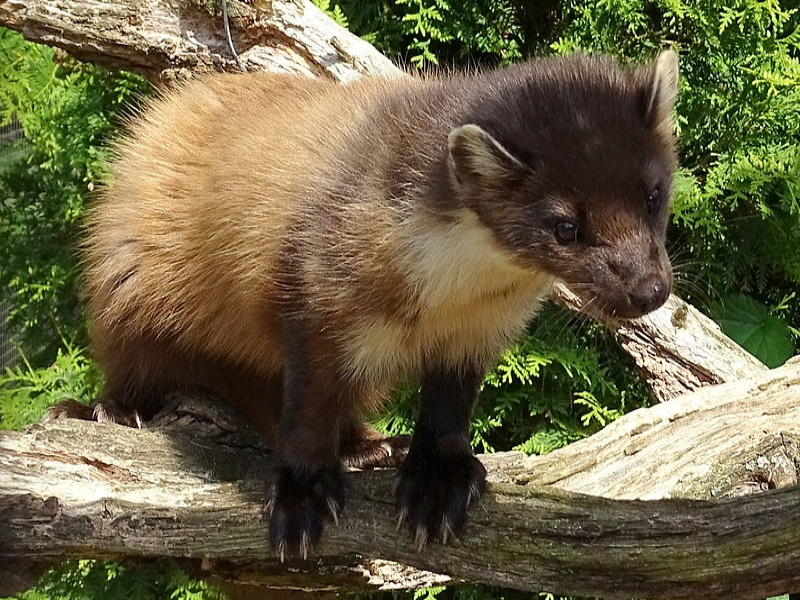minkish: (42, 41, 694, 573)
